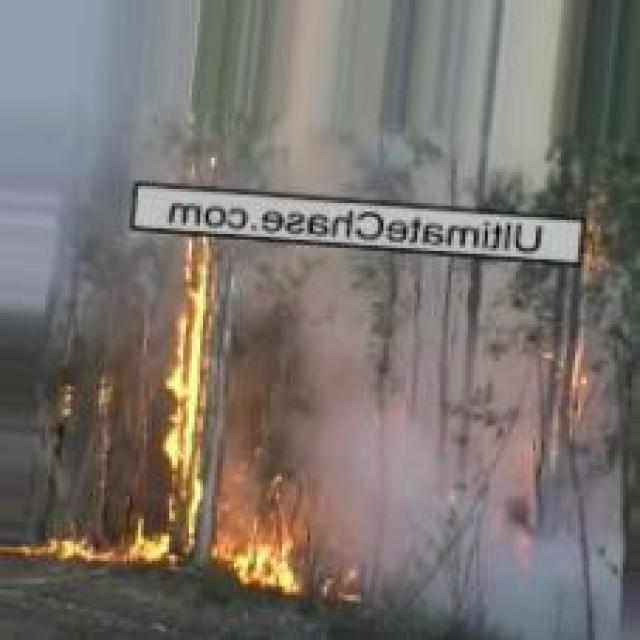fire: (162, 228, 220, 569), (222, 496, 320, 605), (1, 518, 188, 570)
smoke: (320, 407, 602, 619)
